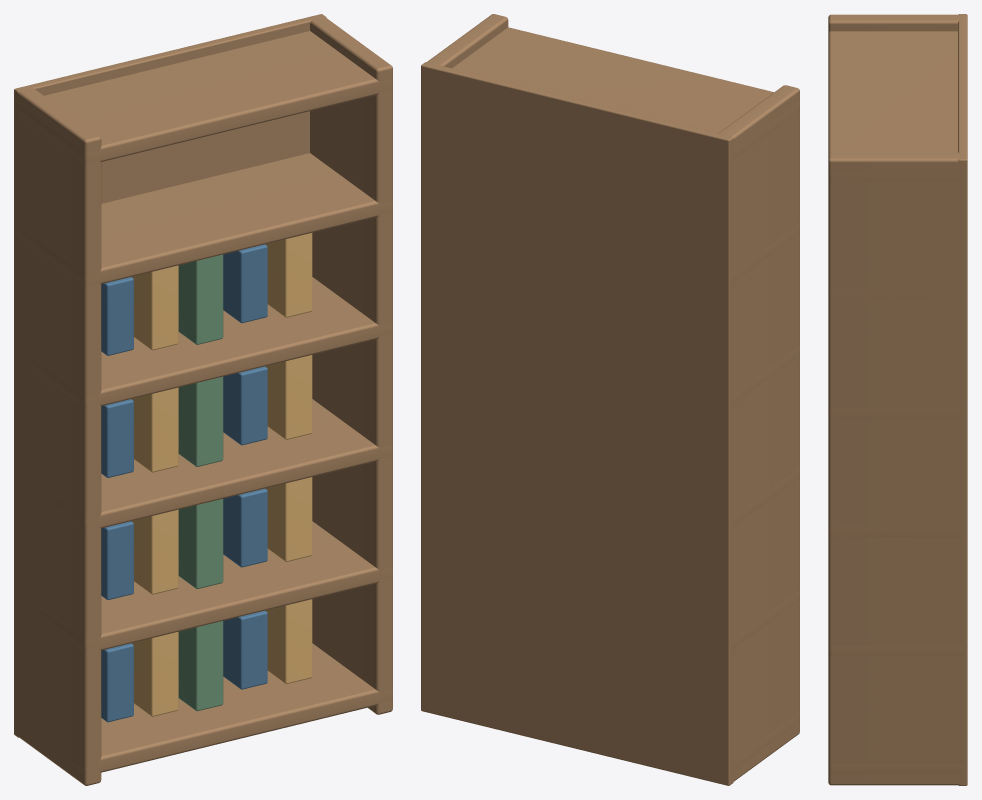
The model's file is atelier-bookshelf.glb.
3 renders of one model, left to right at view 1: azimuth 30°, elevation 25°; view 2: azimuth 150°, elevation 25°; view 3: azimuth 270°, elevation 25°, orthographic. The views are drawn at different scales.
Visible parts, largest first — view 1: legs.078, artGold, artBlue, artGreen; view 2: legs.078; view 3: legs.078.
Part boxes in pixels (x1,y1,x2,y2): legs.078: (14, 14, 392, 785); artGold: (131, 233, 312, 716); artBlue: (101, 244, 267, 722); artGreen: (178, 254, 223, 711); legs.078: (421, 14, 799, 785); legs.078: (828, 14, 967, 785).
Size of the model in its own units: 0.9001 by 1.8 by 0.3625.
